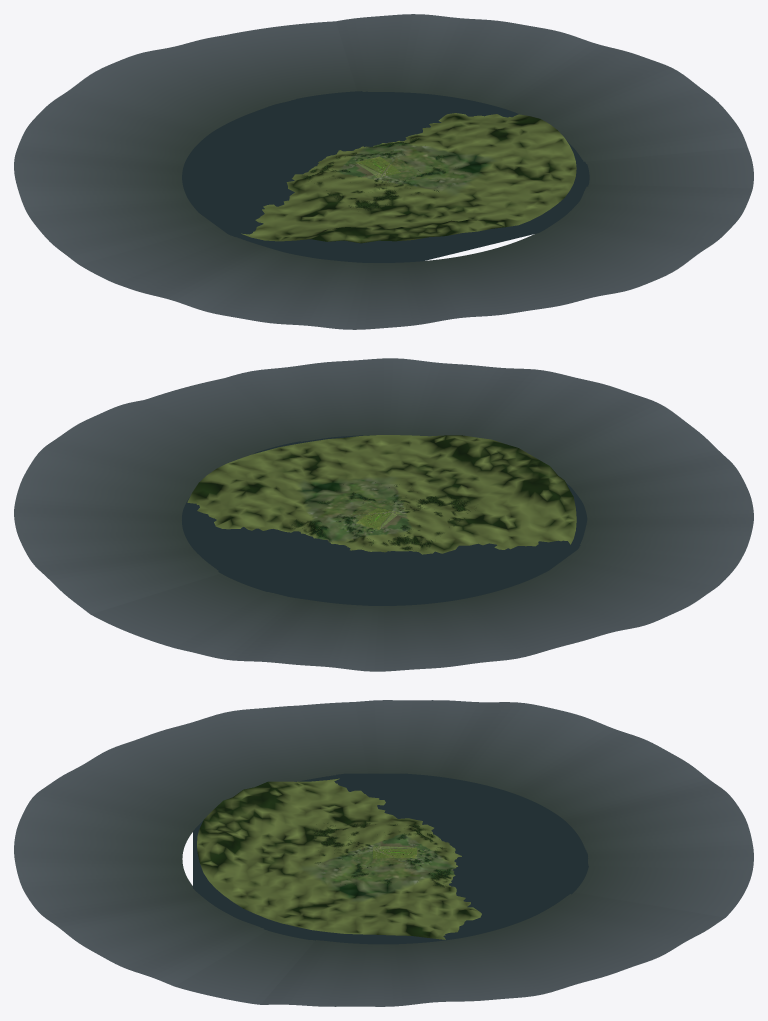
The model's file is byneset_south_01_plain.glb.
The picture shows the model from 3 angles, top to bottom: view 1: azimuth 30°, elevation 25°; view 2: azimuth 150°, elevation 25°; view 3: azimuth 270°, elevation 25°; orthographic projection.
Visible parts, largest first — view 1: FAR_Horizon, SURF_Far, WATER_Sea, FAR_Trees; view 2: FAR_Horizon, SURF_Far, WATER_Sea, FAR_Trees; view 3: FAR_Horizon, SURF_Far, WATER_Sea, FAR_Trees.
Part boxes in pixels (x1,y1,x2,y2): FAR_Horizon: (14, 14, 753, 329); SURF_Far: (241, 113, 576, 243); WATER_Sea: (182, 91, 589, 262); FAR_Trees: (303, 138, 465, 210); FAR_Horizon: (14, 358, 753, 671); SURF_Far: (187, 435, 576, 554); WATER_Sea: (182, 435, 587, 605); FAR_Trees: (290, 482, 474, 550); FAR_Horizon: (14, 700, 753, 1006); SURF_Far: (197, 778, 481, 939); WATER_Sea: (193, 773, 588, 944); FAR_Trees: (313, 823, 451, 887).
Size of the model in its own units: 11200 by 291 by 11200.
32 materials, 18 textured.
